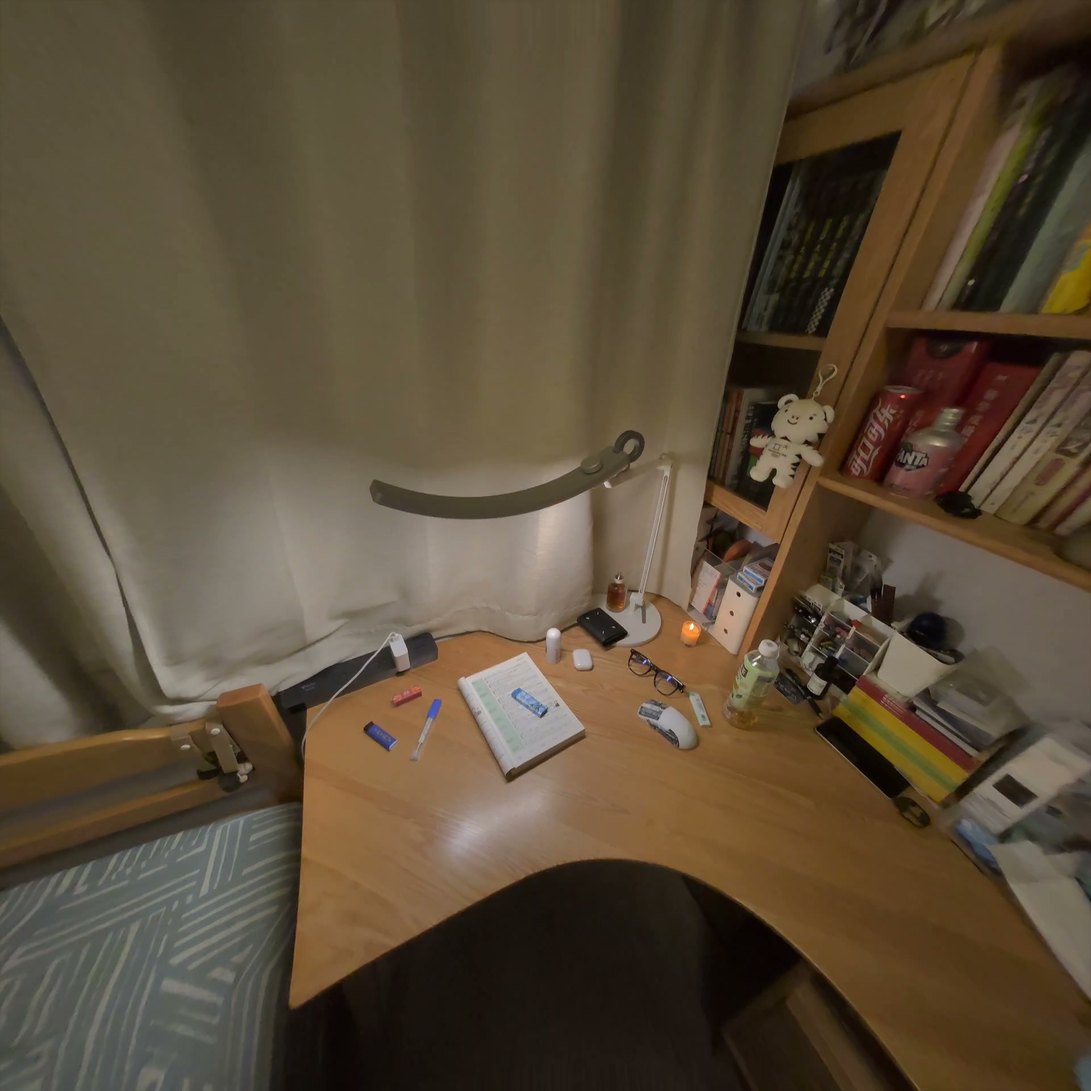lighter: (512, 688, 548, 718)
